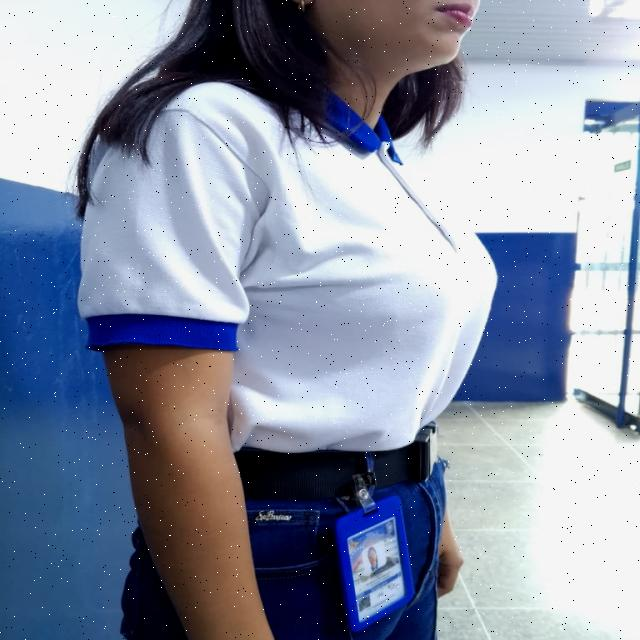carnet: (346, 516, 408, 624)
uniforme_superior: (79, 77, 499, 454)
